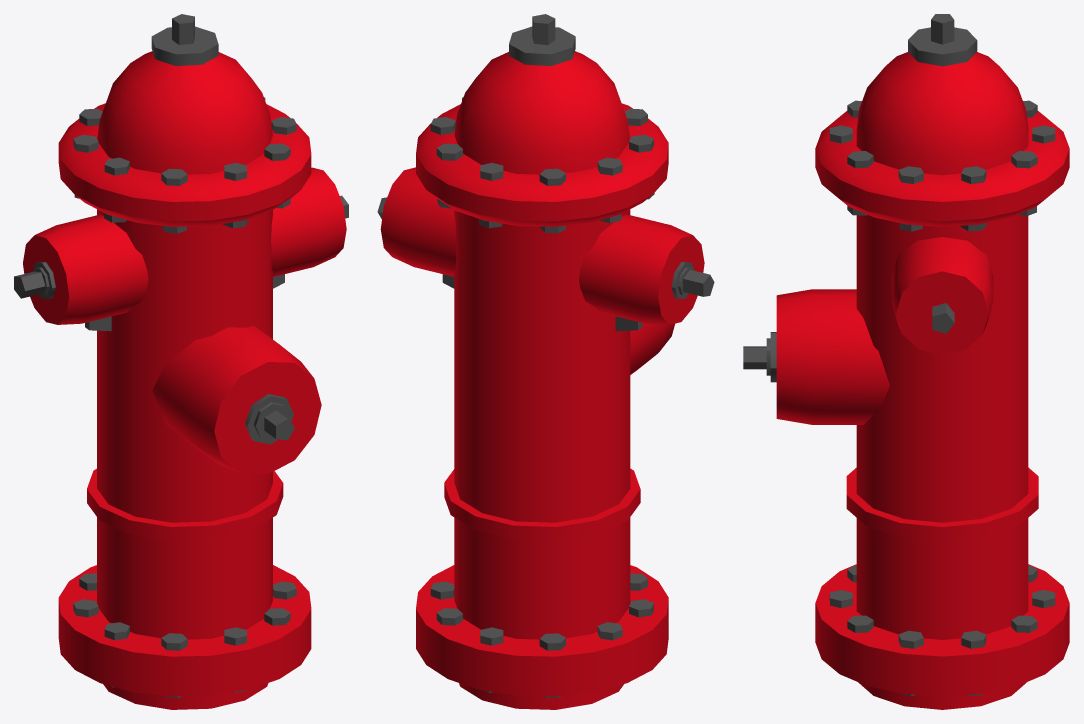
3 views of the same model, side by side, from view 1: azimuth 30°, elevation 25°; view 2: azimuth 150°, elevation 25°; view 3: azimuth 270°, elevation 25° (orthographic).
Parts seen in each view (by area): view 1: hydrant_low; view 2: hydrant_low; view 3: hydrant_low.
Part boxes in pixels (<box>): hydrant_low: <box>14,14,348,709</box>; hydrant_low: <box>377,14,714,709</box>; hydrant_low: <box>743,14,1069,709</box>.
Bounding box in the file's own units: 0.3088 × 0.5945 × 0.2688.
Materials: 1 (1 with a texture image).
